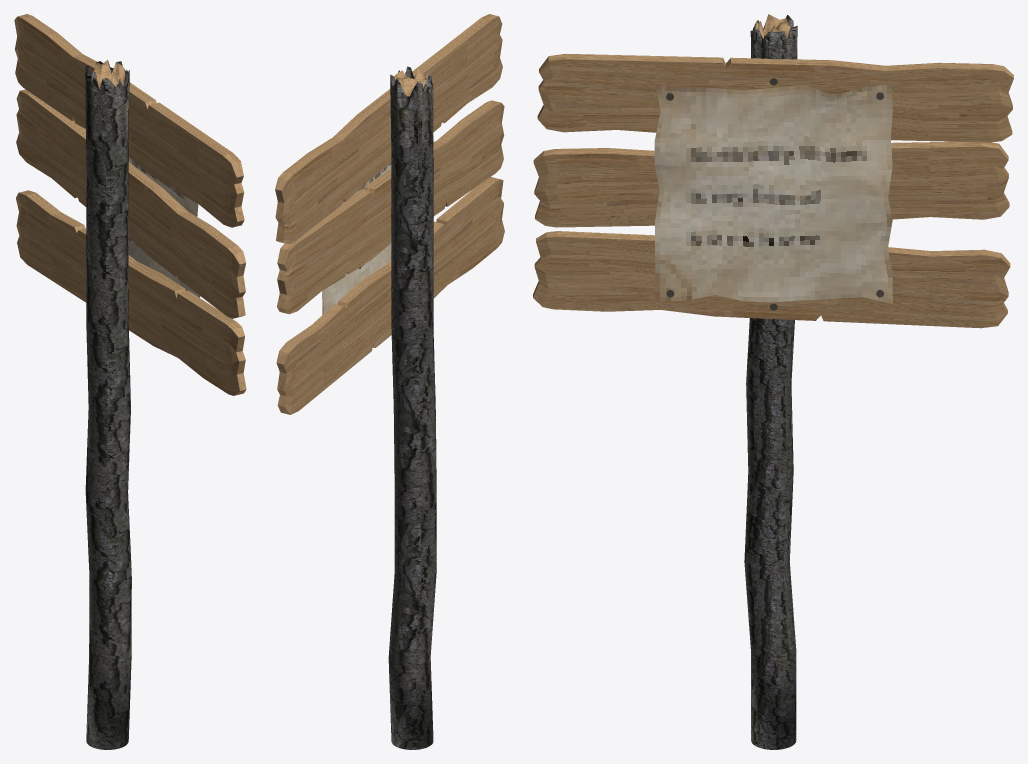
File: sign.gltf
3 renders of one model, left to right at view 1: azimuth 30°, elevation 25°; view 2: azimuth 150°, elevation 25°; view 3: azimuth 270°, elevation 25°, orthographic. The views are drawn at different scales.
Visible parts, largest first — view 1: Cylinder, Cube, Cube.002, Cube.001, Plane; view 2: Cylinder, Cube, Cube.002, Cube.001, Plane; view 3: Plane, Cube, Cube.002, Cylinder, Cube.001.
Boxes of the visible parts, x1,y1,x2,y2 form: Cylinder: (84, 60, 131, 749); Cube: (14, 14, 244, 227); Cube.002: (16, 190, 246, 395); Cube.001: (16, 89, 245, 318); Plane: (128, 157, 200, 297); Cylinder: (388, 66, 436, 749); Cube: (275, 14, 502, 244); Cube.002: (276, 177, 504, 414); Cube.001: (277, 100, 504, 314); Plane: (322, 136, 433, 314); Plane: (654, 84, 892, 304); Cube: (537, 53, 1013, 142); Cube.002: (533, 231, 1010, 328); Cylinder: (744, 14, 797, 749); Cube.001: (533, 141, 1009, 227).
Size of the model in its own units: 0.0935 by 0.9852 by 0.5965.
15 materials, 5 textured.
